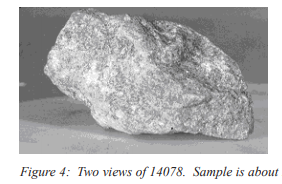Basalt: (40, 5, 261, 145)
